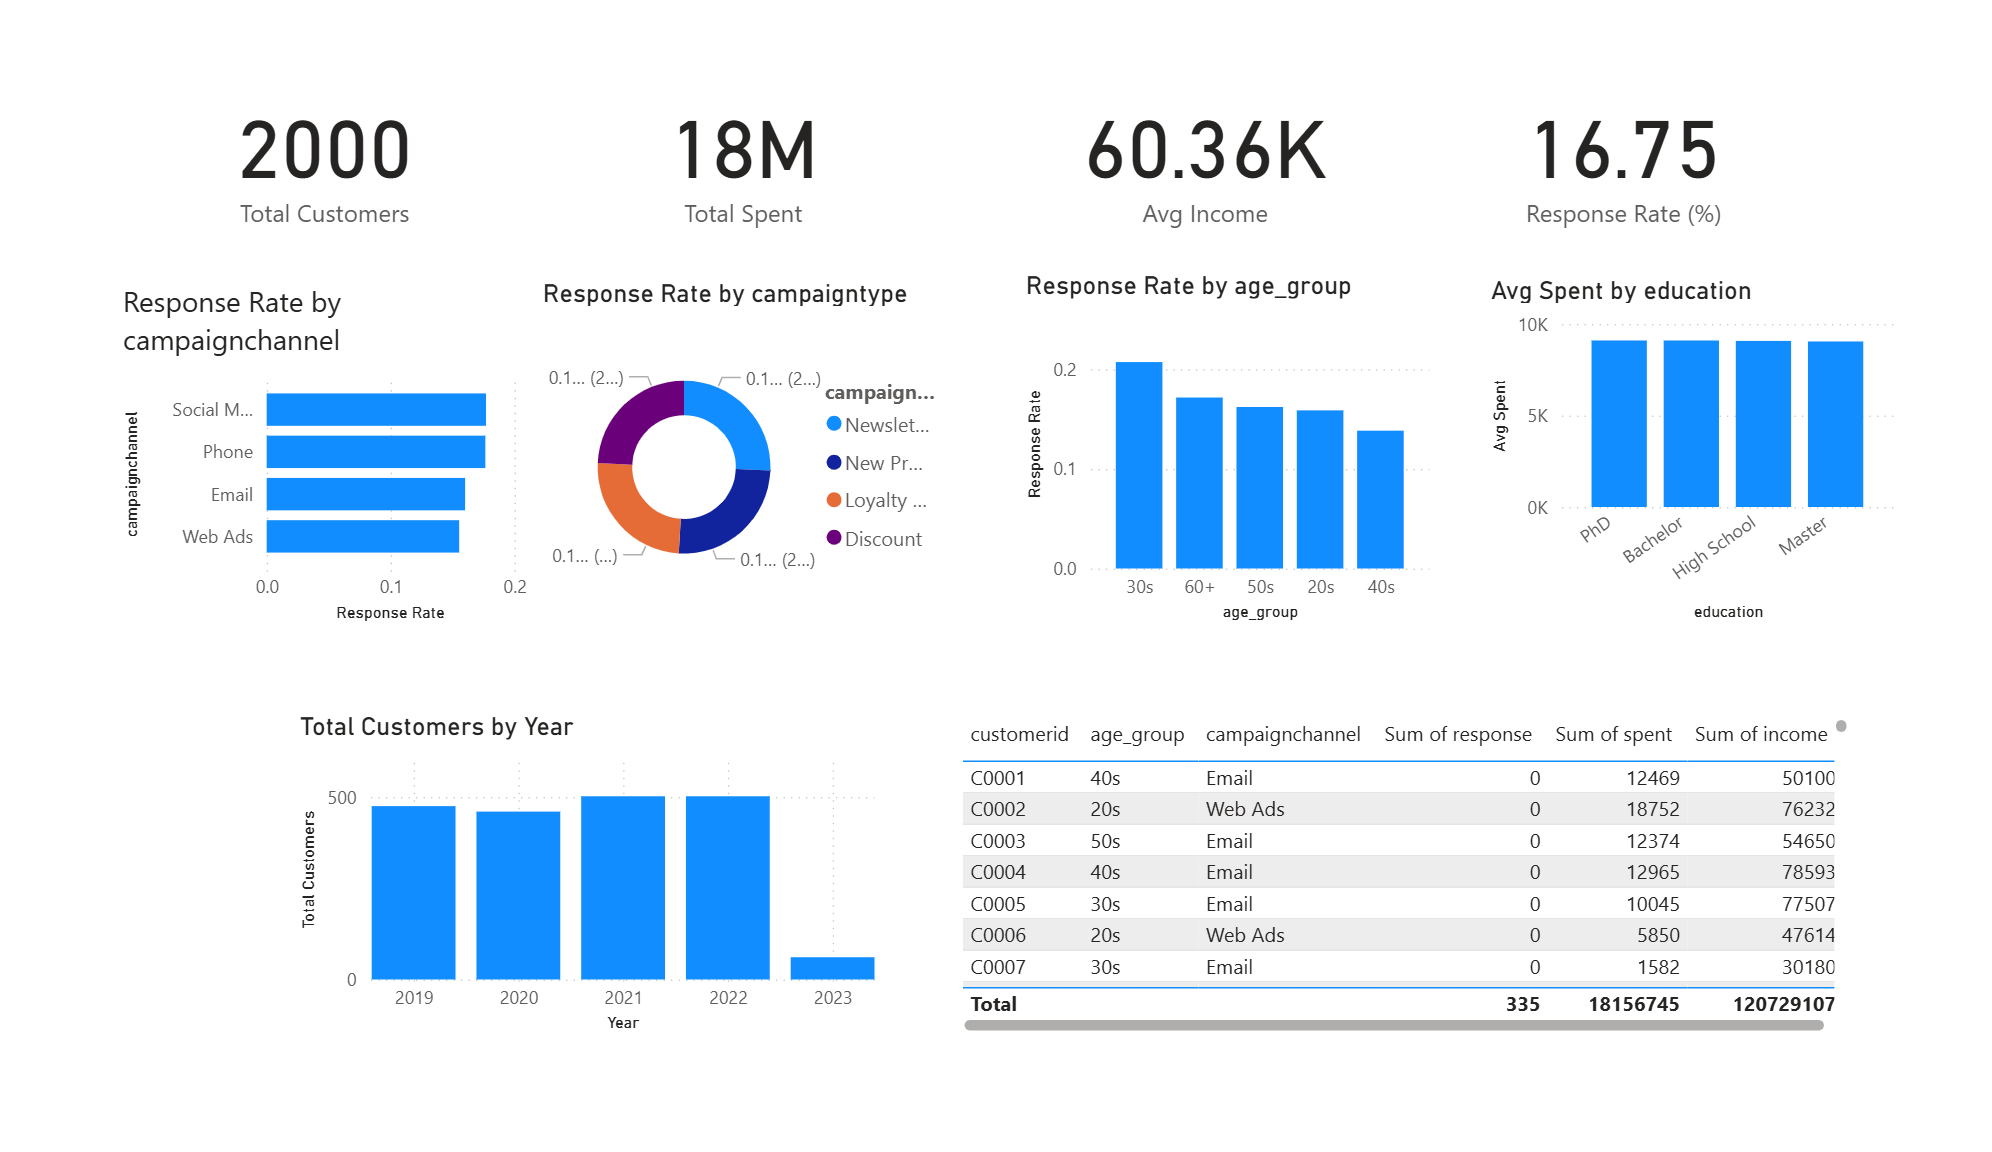

What the dashboard file says about the page in this screenshot:
{"tool":"powerbi","page":{"name":"Marketing Campaign Overview","canvas":[1280,720],"ordinal":0},"visuals":[{"type":"card","fields":{"Values":["marketing_campaign_cleaned.Total Customers"]},"box":[52.6,23.4,279.2,112.5],"z":0},{"type":"card","fields":{"Values":["marketing_campaign_cleaned.Total Spent"]},"box":[331.8,23.4,279.2,112.5],"z":1000},{"type":"card","fields":{"Values":["marketing_campaign_cleaned.Avg Income"]},"box":[640.1,23.4,279.2,112.5],"z":2000},{"type":"card","fields":{"Values":["marketing_campaign_cleaned.Response Rate (%)"]},"box":[919.3,23.4,279.2,112.5],"z":3000},{"type":"clusteredBarChart","fields":{"Category":["marketing_campaign_cleaned.campaignchannel"],"Y":["marketing_campaign_cleaned.Response Rate"]},"box":[52.6,163.7,279.2,230.9],"z":4000},{"type":"donutChart","fields":{"Category":["marketing_campaign_cleaned.campaigntype"],"Y":["marketing_campaign_cleaned.Response Rate"]},"box":[333.2,160.8,279.2,233.8],"z":5000},{"type":"columnChart","fields":{"Category":["marketing_campaign_cleaned.age_group"],"Y":["marketing_campaign_cleaned.Response Rate"]},"box":[654.8,156.4,279.2,238.2],"z":6000},{"type":"columnChart","fields":{"Category":["marketing_campaign_cleaned.education"],"Y":["marketing_campaign_cleaned.Avg Spent"]},"box":[964.6,159.3,279.2,235.3],"z":7000},{"type":"lineStackedColumnComboChart","fields":{"Category":["Calendar.Date.Variation.Date Hierarchy.Year","Calendar.Date.Variation.Date Hierarchy.Quarter","Calendar.Date.Variation.Date Hierarchy.Month","Calendar.Date.Variation.Date Hierarchy.Day"],"Y":["marketing_campaign_cleaned.Total Customers"]},"box":[171,450.2,393.2,219.2],"z":8000},{"type":"tableEx","fields":{"Values":["marketing_campaign_cleaned.customerid","marketing_campaign_cleaned.age_group","marketing_campaign_cleaned.campaignchannel","Sum(marketing_campaign_cleaned.response)","Sum(marketing_campaign_cleaned.spent)","Sum(marketing_campaign_cleaned.income)"]},"box":[612.4,450.2,600.7,219.2],"z":9000}]}

Visuals, with their boxes in screenshot pixels (x1, y1, x2, y2), scaled from the page's 1280x720 canvas onto the 1992x1152 screenshot:
card - marketing_campaign_cleaned.Total Customers: region(82, 37, 516, 217)
card - marketing_campaign_cleaned.Total Spent: region(516, 37, 951, 217)
card - marketing_campaign_cleaned.Avg Income: region(996, 37, 1431, 217)
card - marketing_campaign_cleaned.Response Rate (%): region(1431, 37, 1865, 217)
clusteredBarChart - marketing_campaign_cleaned.campaignchannel x marketing_campaign_cleaned.Response Rate: region(82, 262, 516, 631)
donutChart - marketing_campaign_cleaned.campaigntype x marketing_campaign_cleaned.Response Rate: region(519, 257, 953, 631)
columnChart - marketing_campaign_cleaned.age_group x marketing_campaign_cleaned.Response Rate: region(1019, 250, 1454, 631)
columnChart - marketing_campaign_cleaned.education x marketing_campaign_cleaned.Avg Spent: region(1501, 255, 1936, 631)
lineStackedColumnComboChart - Calendar.Date.Variation.Date Hierarchy.Year x Calendar.Date.Variation.Date Hierarchy.Quarter: region(266, 720, 878, 1071)
tableEx - marketing_campaign_cleaned.customerid x marketing_campaign_cleaned.age_group: region(953, 720, 1888, 1071)
